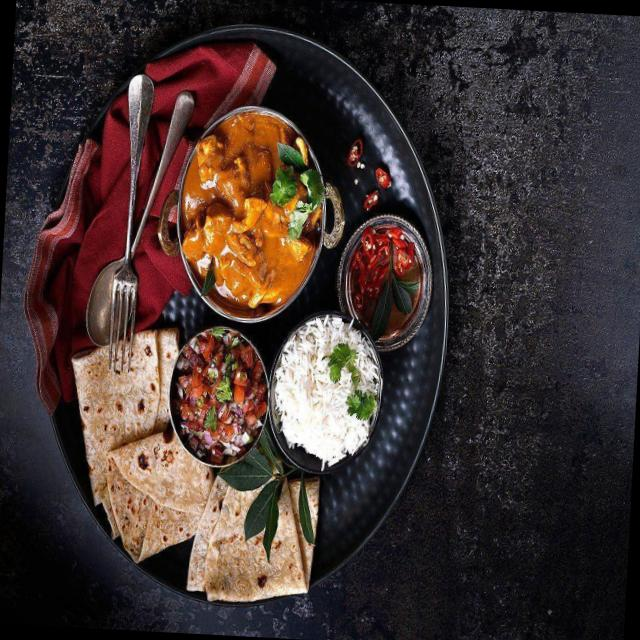chicken: (173, 106, 327, 302)
rice: (278, 329, 381, 446)
roti: (80, 440, 320, 606)
